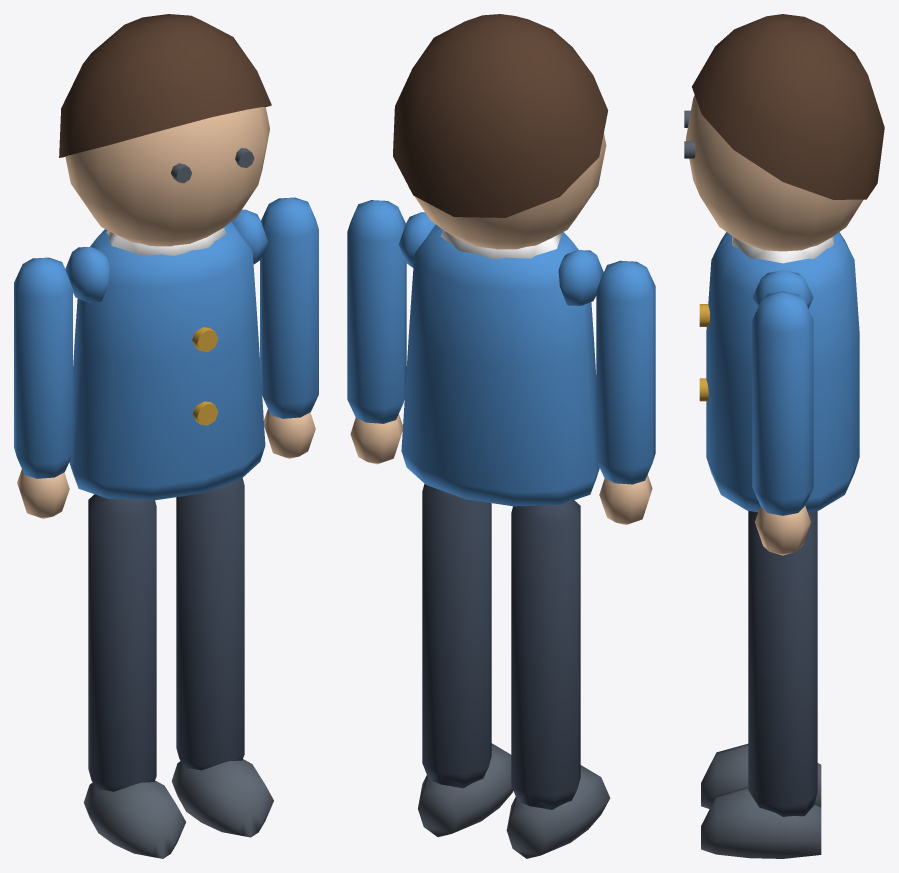
The model's file is walker_a.glb.
3 views of the same model, side by side, from view 1: azimuth 30°, elevation 25°; view 2: azimuth 150°, elevation 25°; view 3: azimuth 270°, elevation 25° (orthographic).
Parts seen in each view (by area): view 1: walker_a_structure, leg_left, leg_right, arm_left, arm_right; view 2: walker_a_structure, leg_left, leg_right, arm_left, arm_right; view 3: walker_a_structure, leg_right, arm_right, leg_left.
Part boxes in pixels (x1,y1,x2,y2): walker_a_structure: (59,14,271,500); leg_left: (83,494,185,858); leg_right: (171,478,273,837); arm_left: (14,257,72,518); arm_right: (260,197,318,458); walker_a_structure: (393,14,608,506); leg_left: (506,500,610,858); leg_right: (418,484,513,836); arm_left: (596,260,655,524); arm_right: (347,200,406,464); walker_a_structure: (684,14,884,512); leg_right: (701,512,821,858); arm_right: (752,291,813,555); leg_left: (701,511,821,808).
Bounding box in the file's own units: 0.68 × 1.75 × 0.392.
